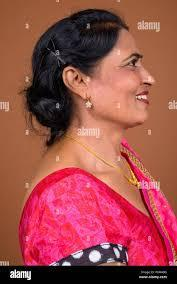Human: (8, 7, 175, 277)
